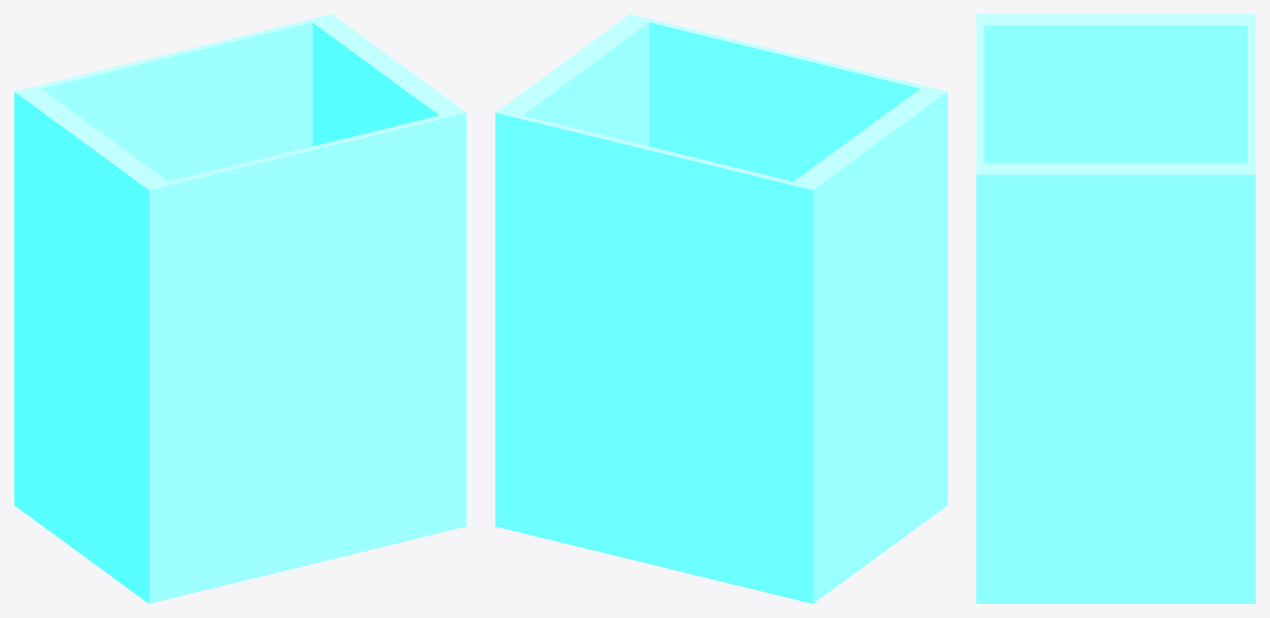
File: 康乐保城市光栅模型.glb
3 renders of one model, left to right at view 1: azimuth 30°, elevation 25°; view 2: azimuth 150°, elevation 25°; view 3: azimuth 270°, elevation 25°, orthographic. The views are drawn at different scales.
Visible parts, largest first — view 1: 平面.008; view 2: 平面.008; view 3: 平面.008.
Boxes of the visible parts, x1,y1,x2,y2 form: 平面.008: (14, 14, 466, 603); 平面.008: (495, 14, 947, 603); 平面.008: (976, 14, 1255, 603).
Bounding box in the file's own units: 22.94 × 28.55 × 16.86.
